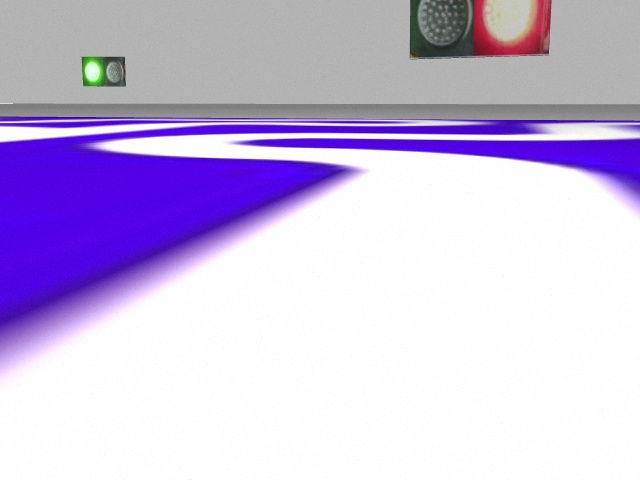red: (472, 1, 551, 58)
